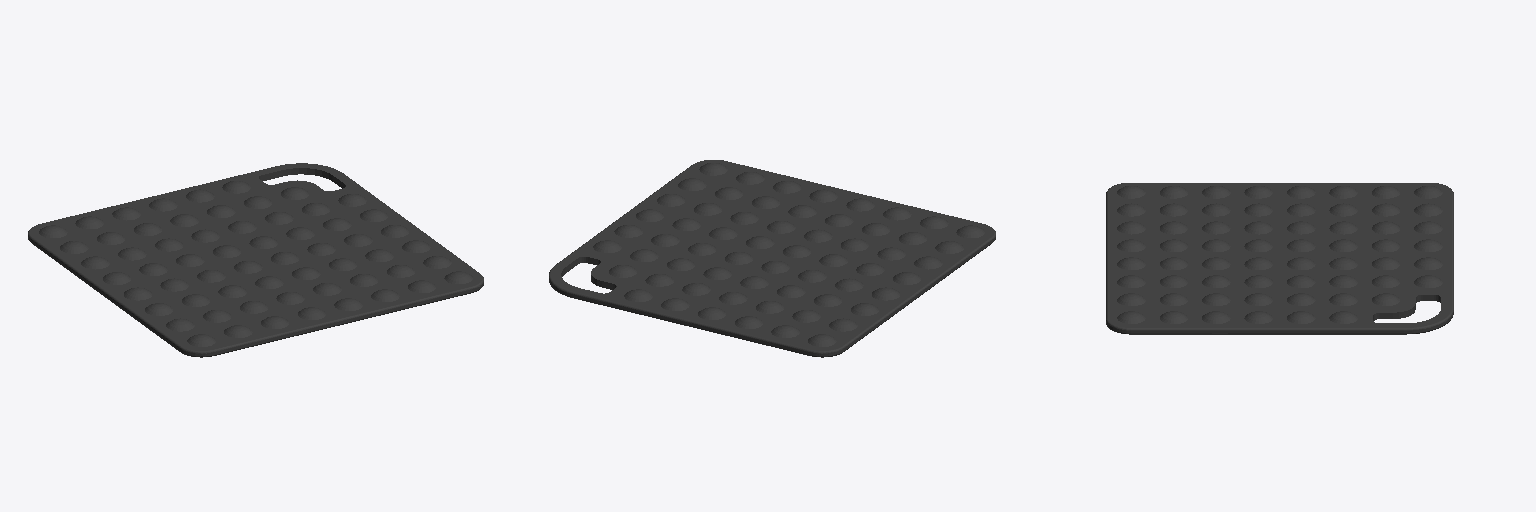
The model's file is secg_prob2.obj.
The picture shows the model from 3 angles: view 1: azimuth 30°, elevation 25°; view 2: azimuth 150°, elevation 25°; view 3: azimuth 270°, elevation 25°; orthographic projection.
Visible parts, largest first — view 1: SecG_Prob2; view 2: SecG_Prob2; view 3: SecG_Prob2.
Part boxes in pixels (x1,y1,x2,y2): SecG_Prob2: (28,163,483,357); SecG_Prob2: (549,160,995,357); SecG_Prob2: (1106,183,1453,334).
Bounding box in the file's own units: 0.246 × 0.009 × 0.246.